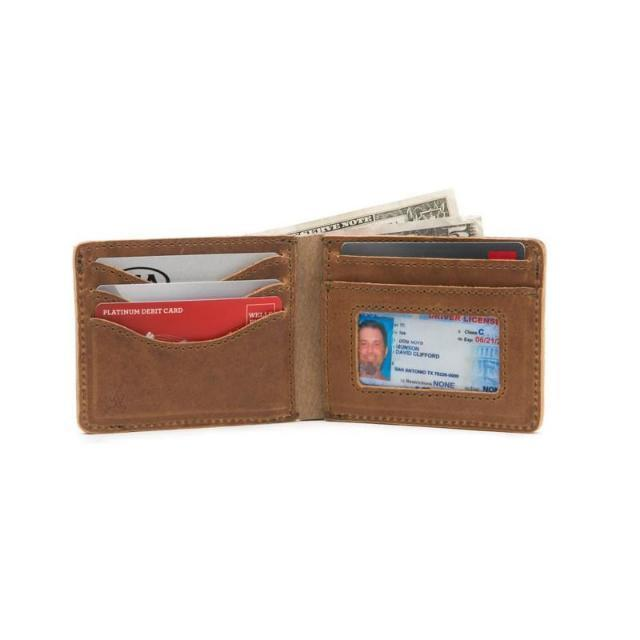wallet: (67, 229, 547, 439)
